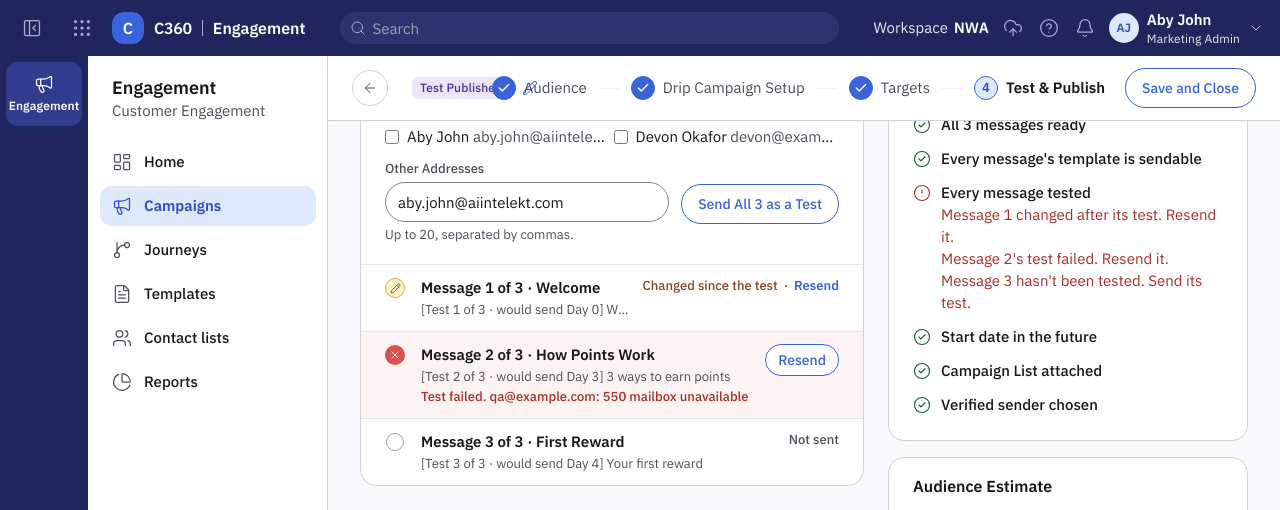
Test: the rows: changed, failed with the reason, not sent, and sending (polled); Resend sends that message alone
The width and height of the screenshot is (1280, 510).
(page scrolled)
Click the 2nd button "Resend". click: {"x": 802, "y": 360}
box: [765,344,839,376]
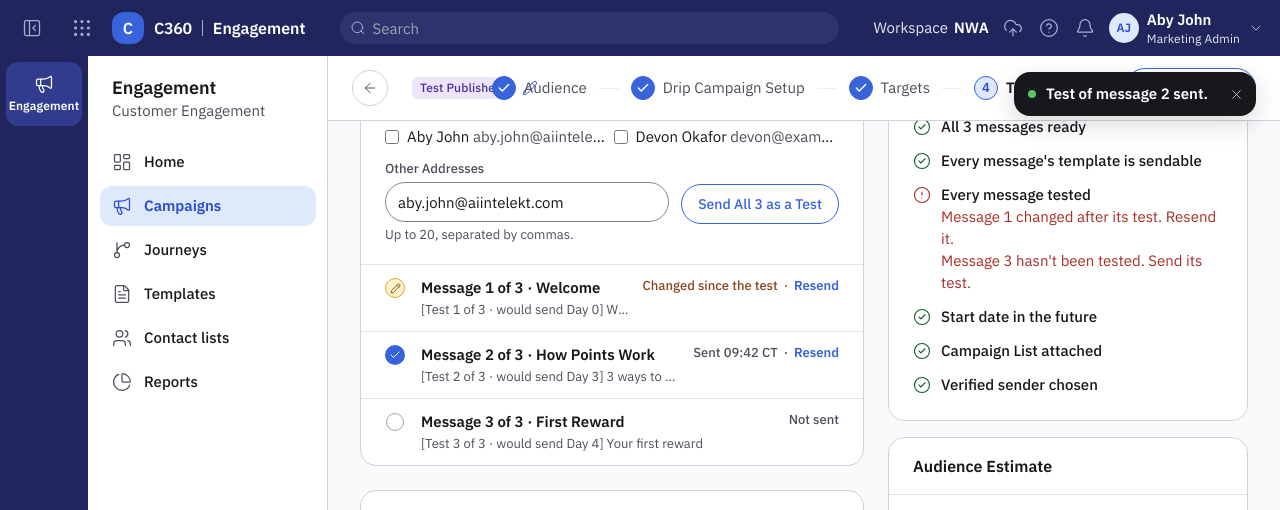
Expected: the text "Test of message 2 sent." is shown, [1046,83,1208,105]
